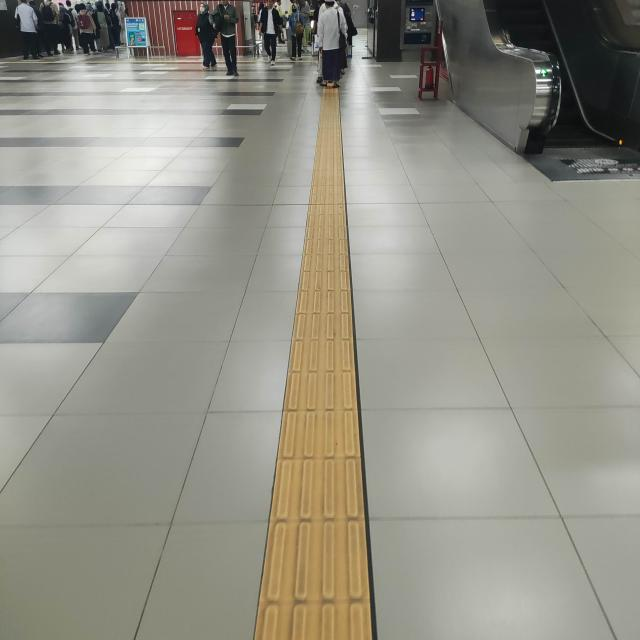lurus: (275, 107, 369, 640)
